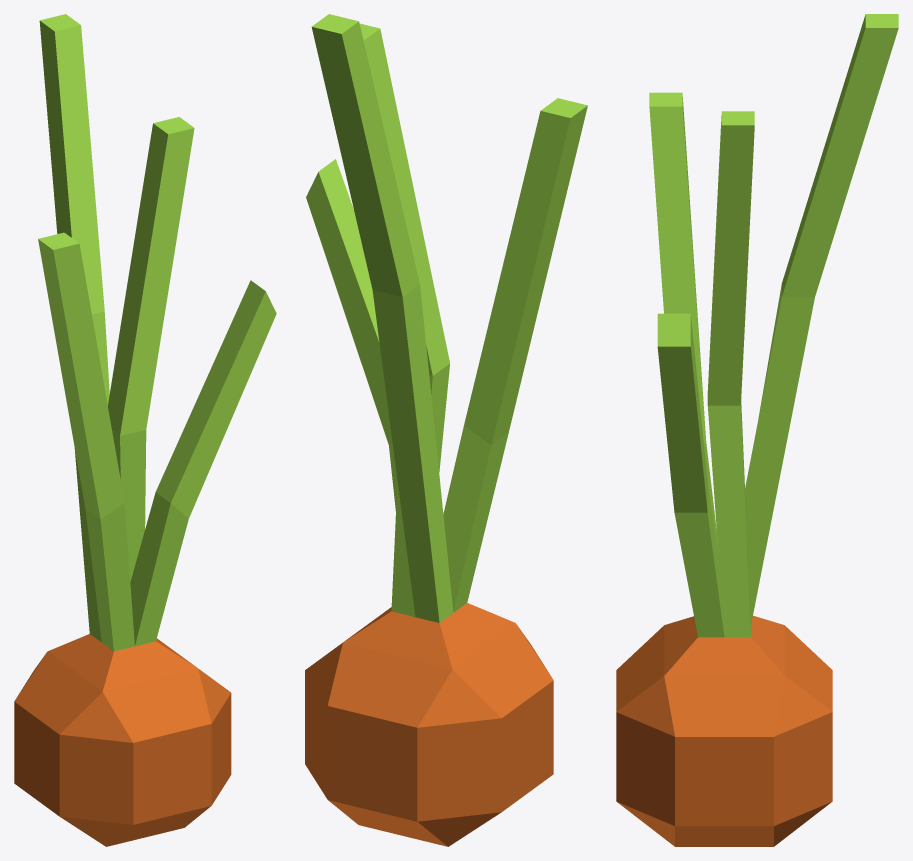
The model's file is onion.fbx.
3 renders of one model, left to right at view 1: azimuth 30°, elevation 25°; view 2: azimuth 150°, elevation 25°; view 3: azimuth 270°, elevation 25°, orthographic. The views are drawn at different scales.
Visible parts, largest first — view 1: onion; view 2: onion; view 3: onion.
Part boxes in pixels (x1,y1,x2,y2): onion: (14, 14, 276, 846); onion: (305, 14, 587, 846); onion: (616, 14, 898, 846).
Bounding box in the file's own units: 26 × 81.42 × 25.67.
